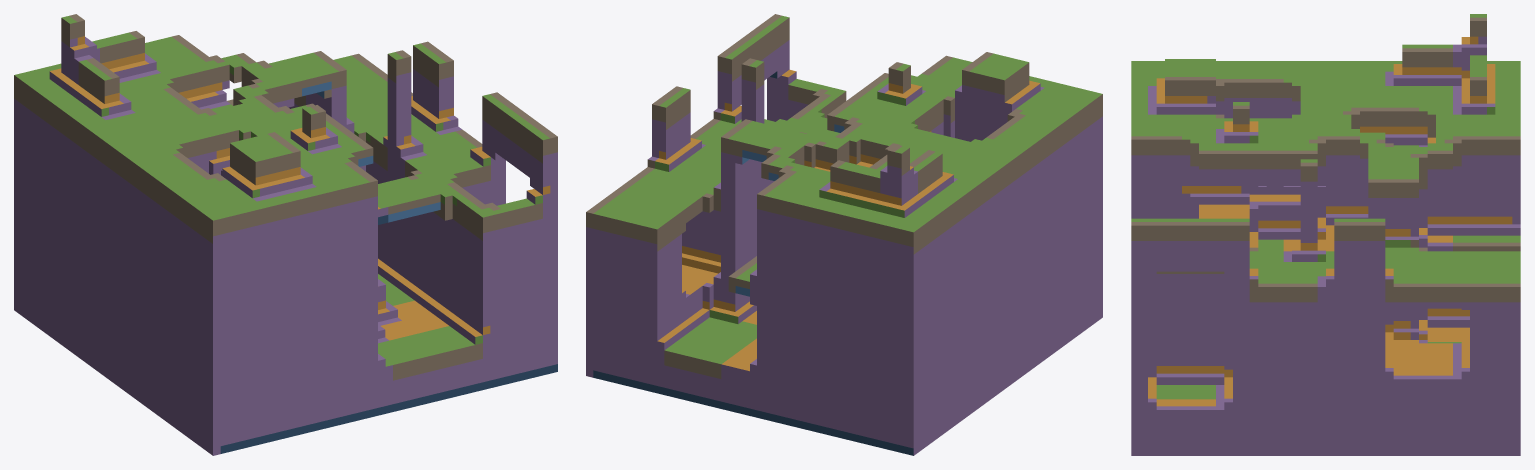
The model's file is planete_paysage.glb.
The picture shows the model from 3 angles, left to right: view 1: azimuth 30°, elevation 25°; view 2: azimuth 150°, elevation 25°; view 3: azimuth 270°, elevation 25°; orthographic projection. The views are drawn at different scales.
Visible parts, largest first — view 1: MasterBlock; view 2: MasterBlock; view 3: MasterBlock.
Part boxes in pixels (x1=…): MasterBlock: x1=14, y1=14, x2=557, y2=455; MasterBlock: x1=586, y1=14, x2=1102, y2=455; MasterBlock: x1=1131, y1=14, x2=1520, y2=455.
Size of the model in its own units: 11.5 by 9.5 by 11.5.
